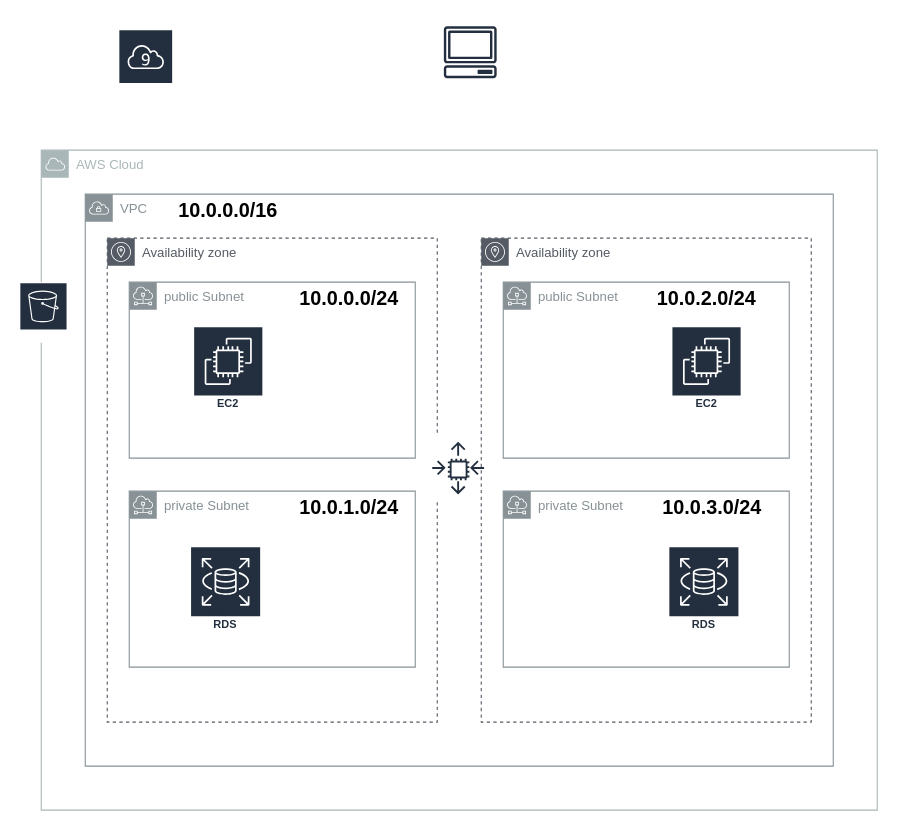
Some shapes in this 897 by 829 pixel diagram are drawn without their labels. Here are the shapes that lost their labels. From the top down, the centre of each, then its label:
At (x=145, y=67): "AWS Cloud9".
At (x=469, y=51): "Client".
At (x=43, y=312): "Amazon S3".
At (x=457, y=467): "Auto Scaling".
